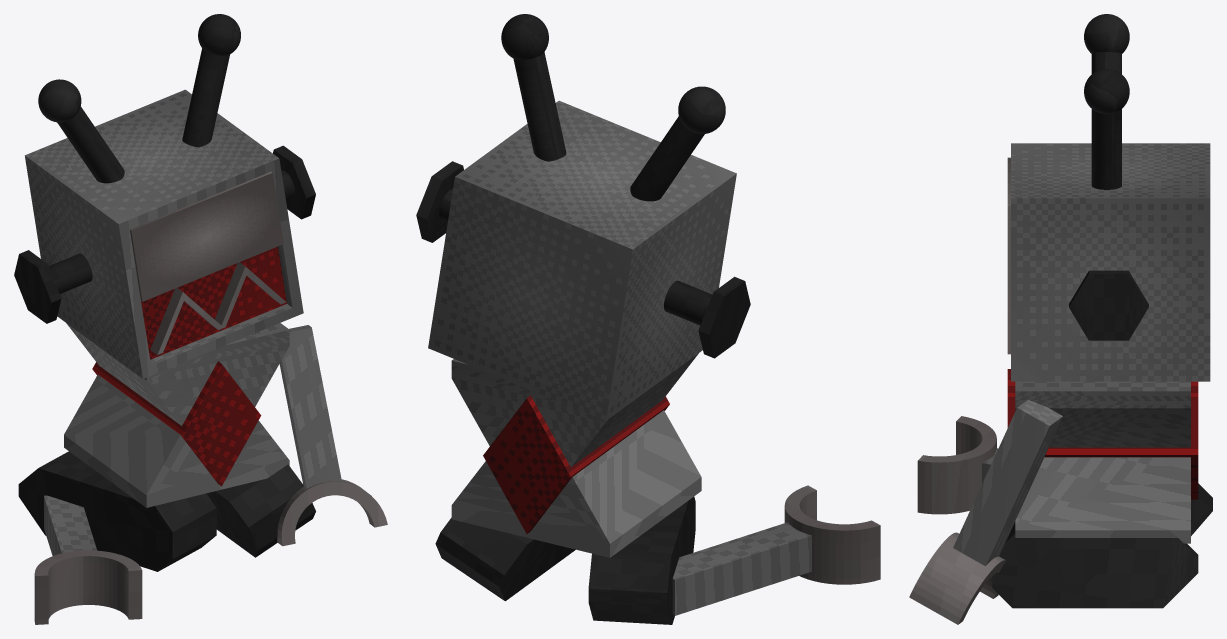
File: BrokenBot.obj
3 views of the same model, side by side, from view 1: azimuth 30°, elevation 25°; view 2: azimuth 150°, elevation 25°; view 3: azimuth 270°, elevation 25° (orthographic). The views are drawn at different scales.
Parts seen in each view (by area): view 1: BrokenBot; view 2: BrokenBot; view 3: BrokenBot.
Part boxes in pixels (x1=…): BrokenBot: x1=14, y1=14, x2=387, y2=624; BrokenBot: x1=416, y1=14, x2=880, y2=624; BrokenBot: x1=909, y1=14, x2=1212, y2=624.
Bounding box in the file's own units: 5.55 × 7.78 × 3.98.
